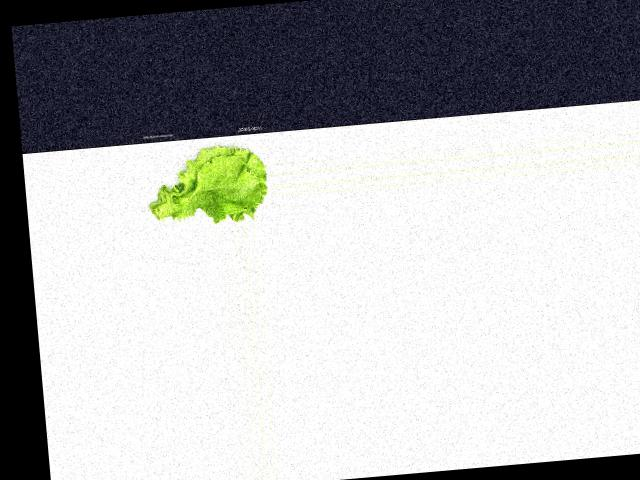lettuce: (146, 136, 270, 229)
